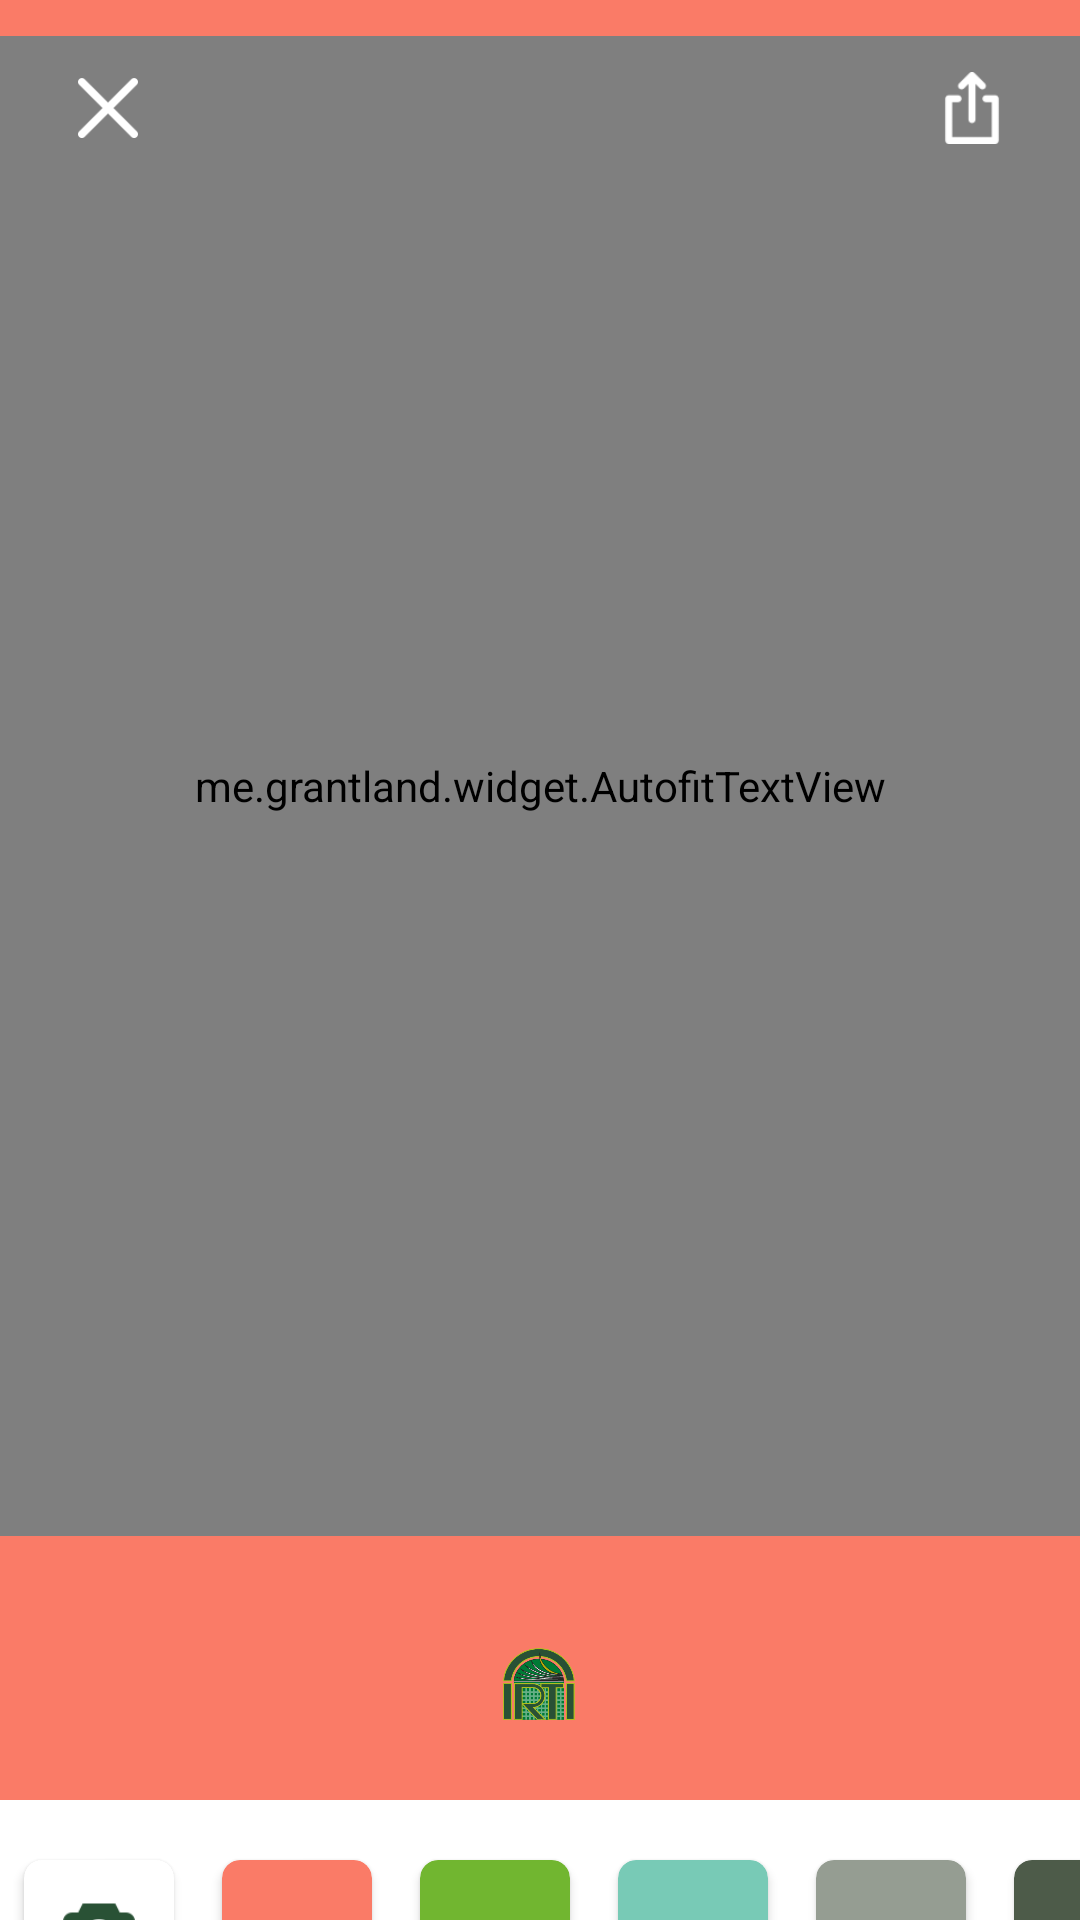

Where icons sit on this 1080 × 1920 app screen, as (x1, y1, x2, y2):
close: (78, 78, 138, 138)
share: (945, 72, 999, 144)
